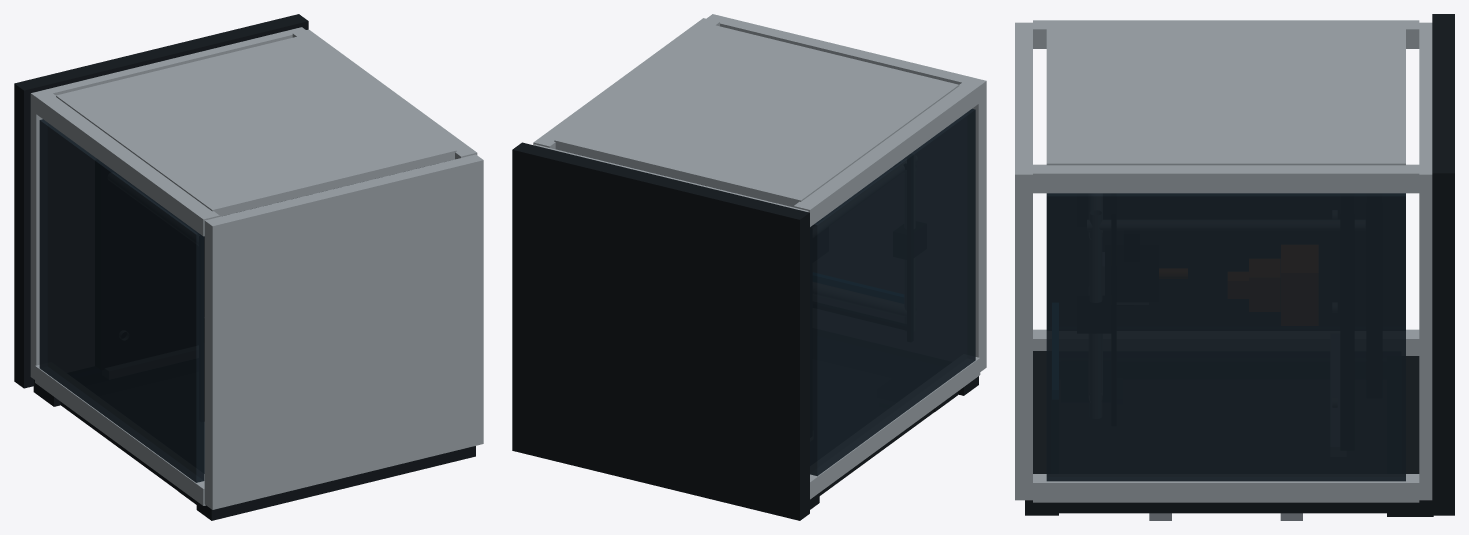
The model's file is deltrol_p2s_source.glb.
3 views of the same model, side by side, from view 1: azimuth 30°, elevation 25°; view 2: azimuth 150°, elevation 25°; view 3: azimuth 270°, elevation 25° (orthographic). The views are drawn at different scales.
Visible parts, largest first — view 1: top_panel, left_side_panel, rear_panel, base_plinth, corner_post_-0.19_0.19, bottom_panel, corner_post_-0.19_-0.19, top_front_lip, corner_post_0.19_0.19; view 2: base_plinth, left_side_panel, rear_panel, top_panel, corner_post_-0.19_0.19, corner_post_-0.19_-0.19, corner_post_0.19_0.19, bottom_panel; view 3: right_side_panel, rear_panel, base_plinth, corner_post_0.19_0.19, corner_post_0.19_-0.19, top_panel, bottom_panel, door_right_stile, corner_post_-0.19_0.19, base_front_fascia, top_front_lip, corner_post_-0.19_-0.19.
Boxes of the visible parts, x1,y1,x2,y2 form: top_panel: (204,154,483,509); left_side_panel: (39,119,204,482); rear_panel: (56,36,456,216); base_plinth: (14,14,308,388); corner_post_-0.19_0.19: (35,92,219,236); bottom_panel: (30,27,305,379); corner_post_-0.19_-0.19: (35,365,205,505); top_front_lip: (196,446,475,520); corner_post_0.19_0.19: (292,29,477,159); base_plinth: (512,142,809,520); left_side_panel: (810,108,975,476); rear_panel: (554,24,959,207); top_panel: (706,14,986,371); corner_post_-0.19_0.19: (793,81,980,226); corner_post_-0.19_-0.19: (810,357,980,499); corner_post_0.19_0.19: (533,18,719,149); bottom_panel: (534,144,808,212); right_side_panel: (1046,193,1405,481); rear_panel: (1046,27,1405,165); base_plinth: (1432,14,1454,515); corner_post_0.19_0.19: (1033,164,1419,193); corner_post_0.19_-0.19: (1033,474,1419,502); top_panel: (1015,22,1032,500); bottom_panel: (1419,22,1432,500); door_right_stile: (1059,502,1386,513); corner_post_-0.19_0.19: (1033,20,1419,48); base_front_fascia: (1387,356,1433,516); top_front_lip: (1025,351,1058,515); corner_post_-0.19_-0.19: (1033,329,1419,355).
Size of the model in its own units: 0.42 by 0.444 by 0.4895.
8 materials, 8 textured.
